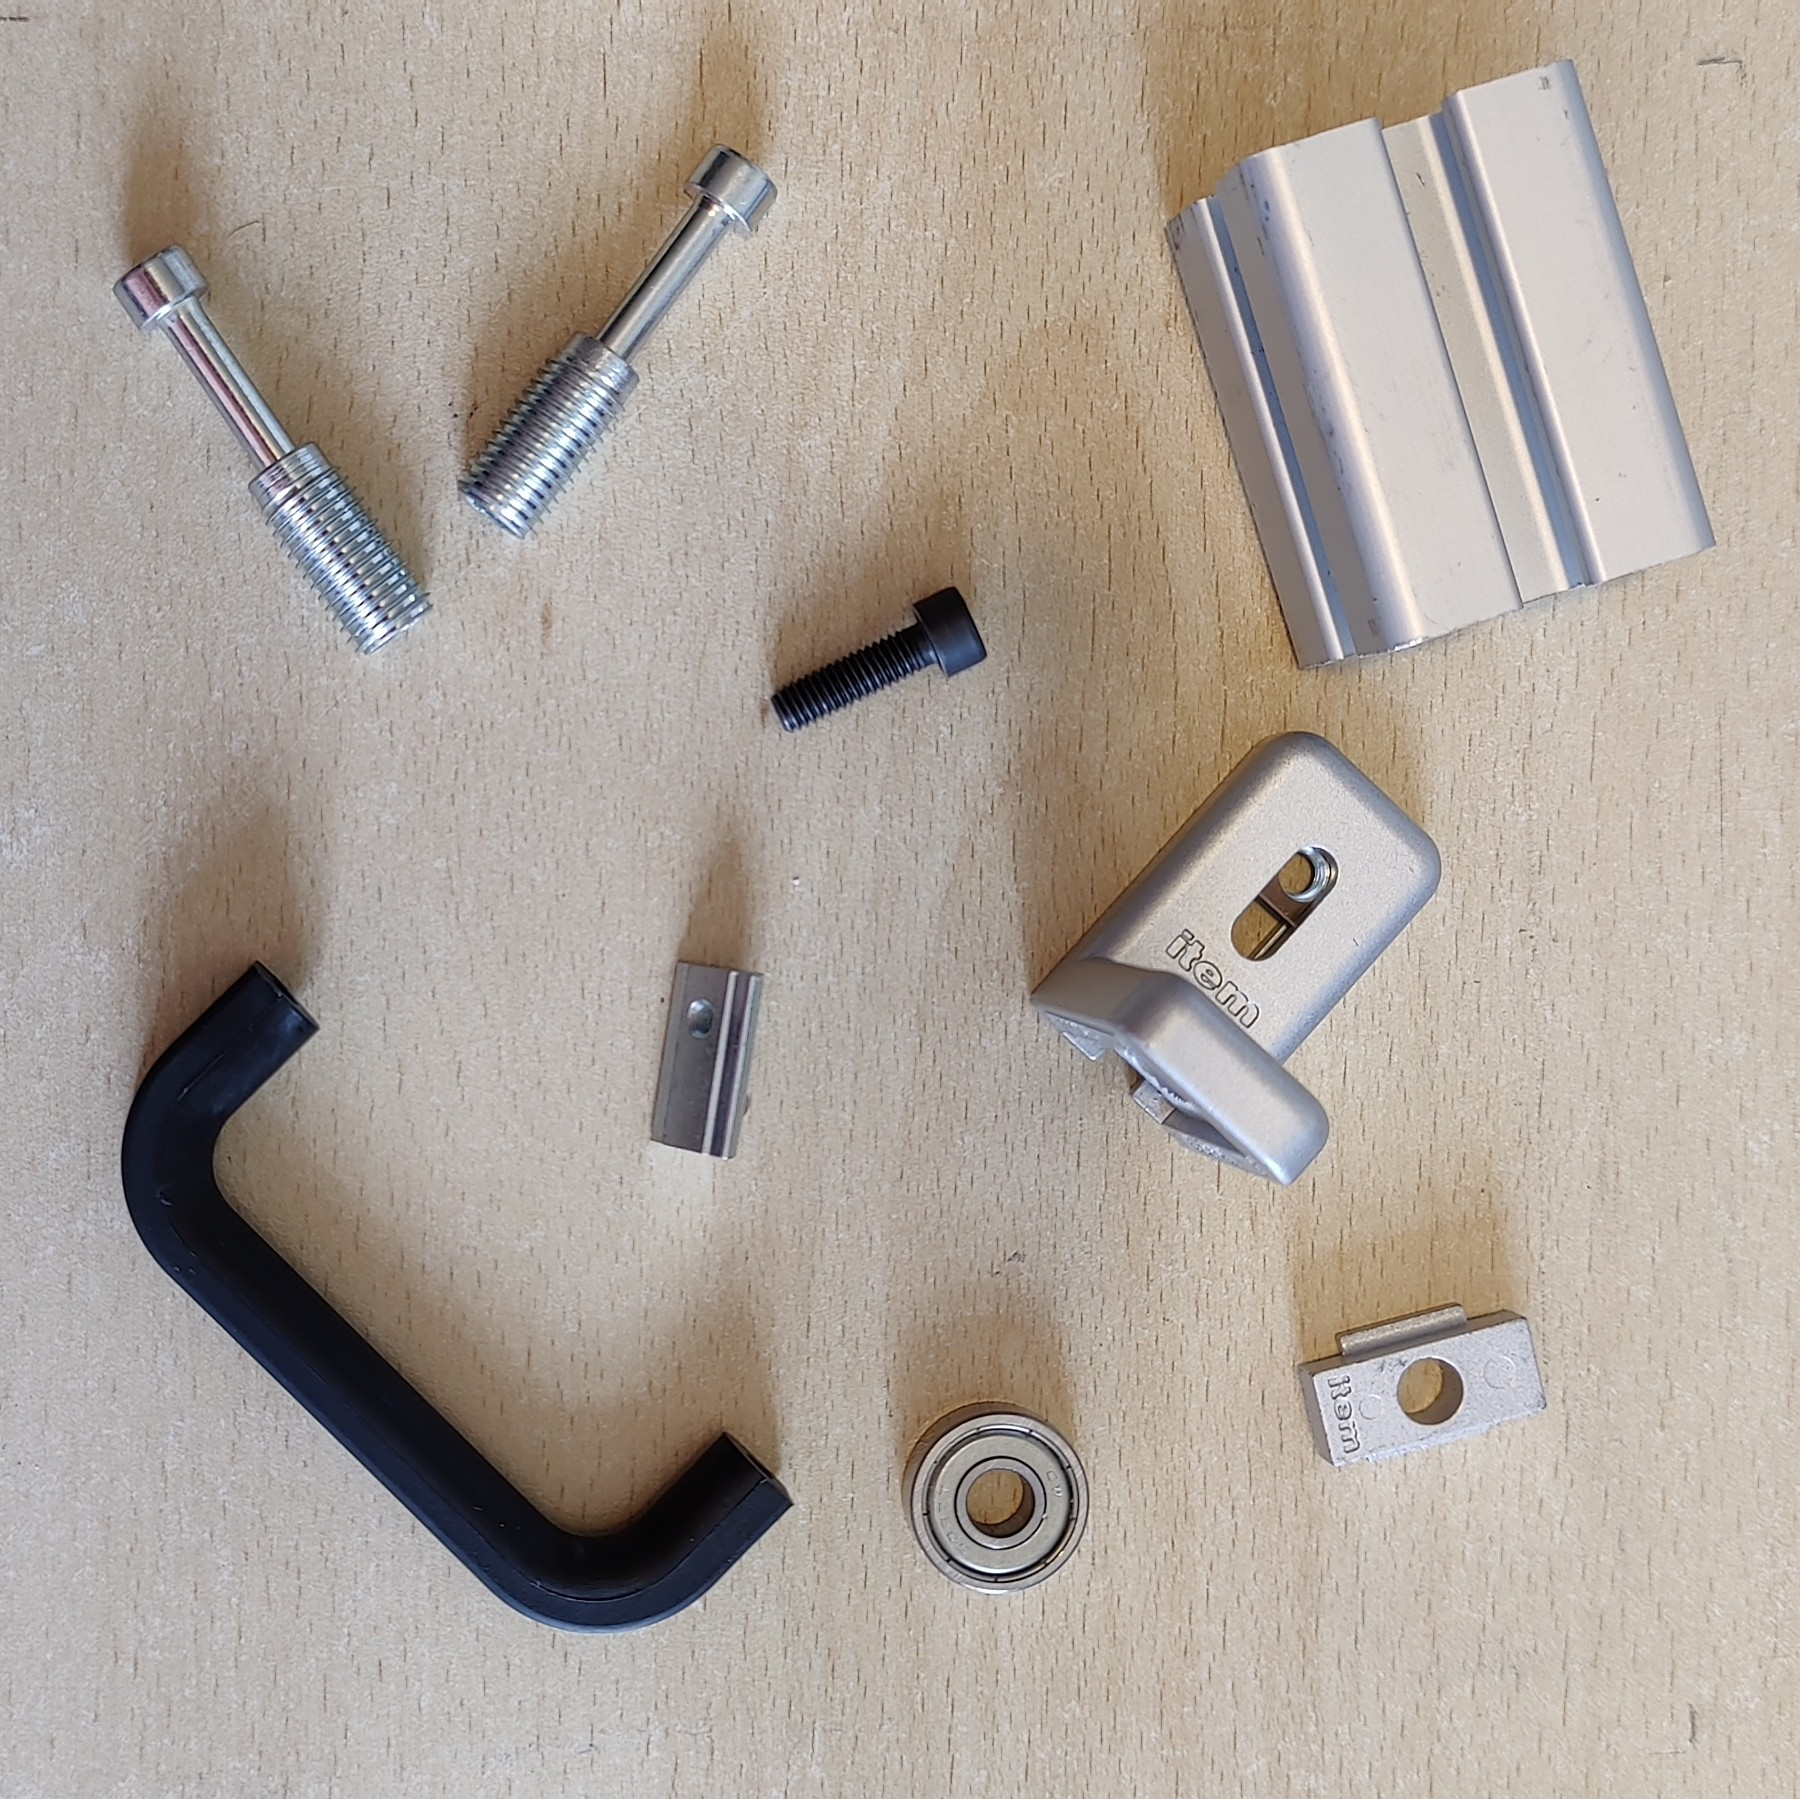Aluminium Extension: (1159, 54, 1721, 675)
Ball Bearing: (898, 1399, 1094, 1596)
Multiwinkel: (1028, 727, 1443, 1191)
Pull Handle: (119, 952, 799, 1634)
Shoulder Socket Head Cap Screw: (109, 241, 435, 661), (455, 142, 779, 540)
Socket Head Cap Screw: (769, 578, 990, 735)
T Nut Square: (1293, 1298, 1551, 1468)
T Spring Nut: (647, 952, 769, 1165)
